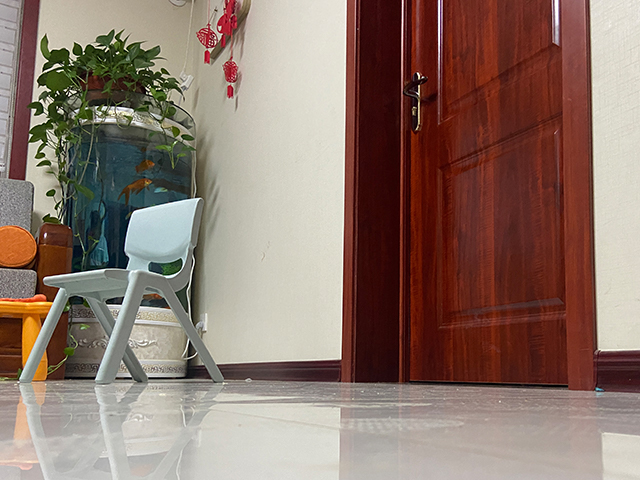sofa: (1, 179, 76, 383)
stool: (17, 195, 226, 386), (1, 292, 55, 382)
